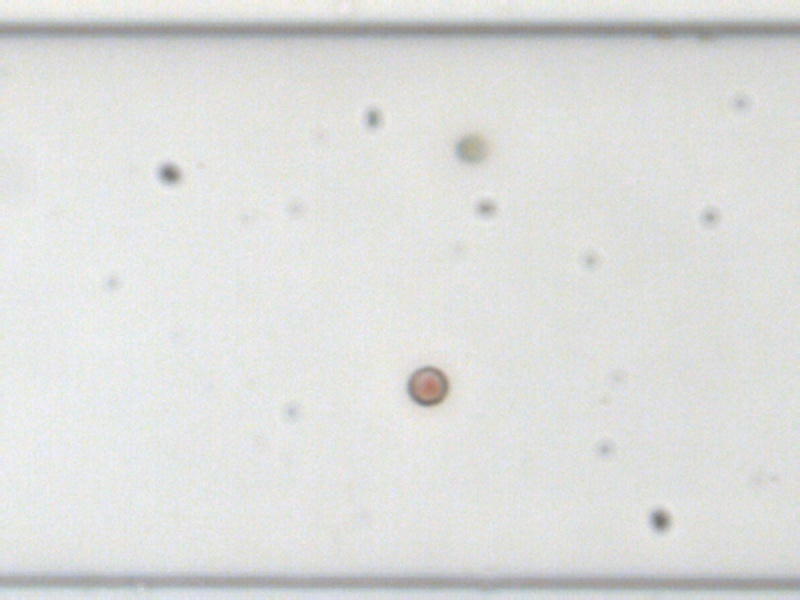Dunaliella salina: (453, 132, 489, 162)
Porphyridium: (404, 363, 446, 405)
